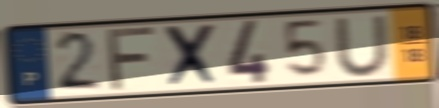2: (54, 29, 103, 96)
4: (225, 17, 273, 87)
5: (279, 17, 329, 81)
F: (105, 24, 161, 94)
U: (331, 13, 393, 79)
X: (162, 20, 223, 91)
